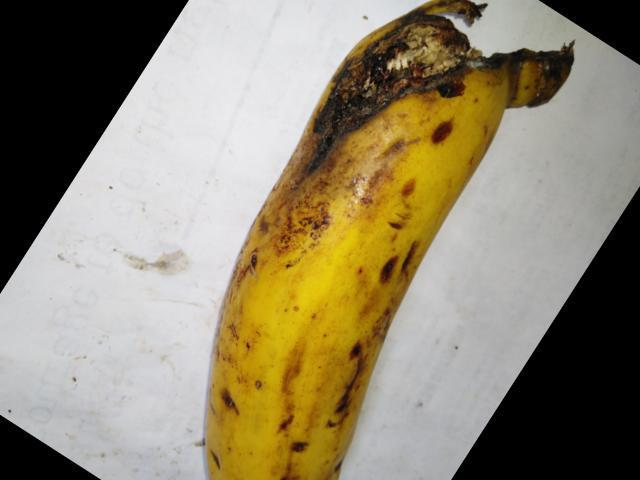ripe: (192, 141, 492, 479)
rotten: (272, 0, 553, 173)
